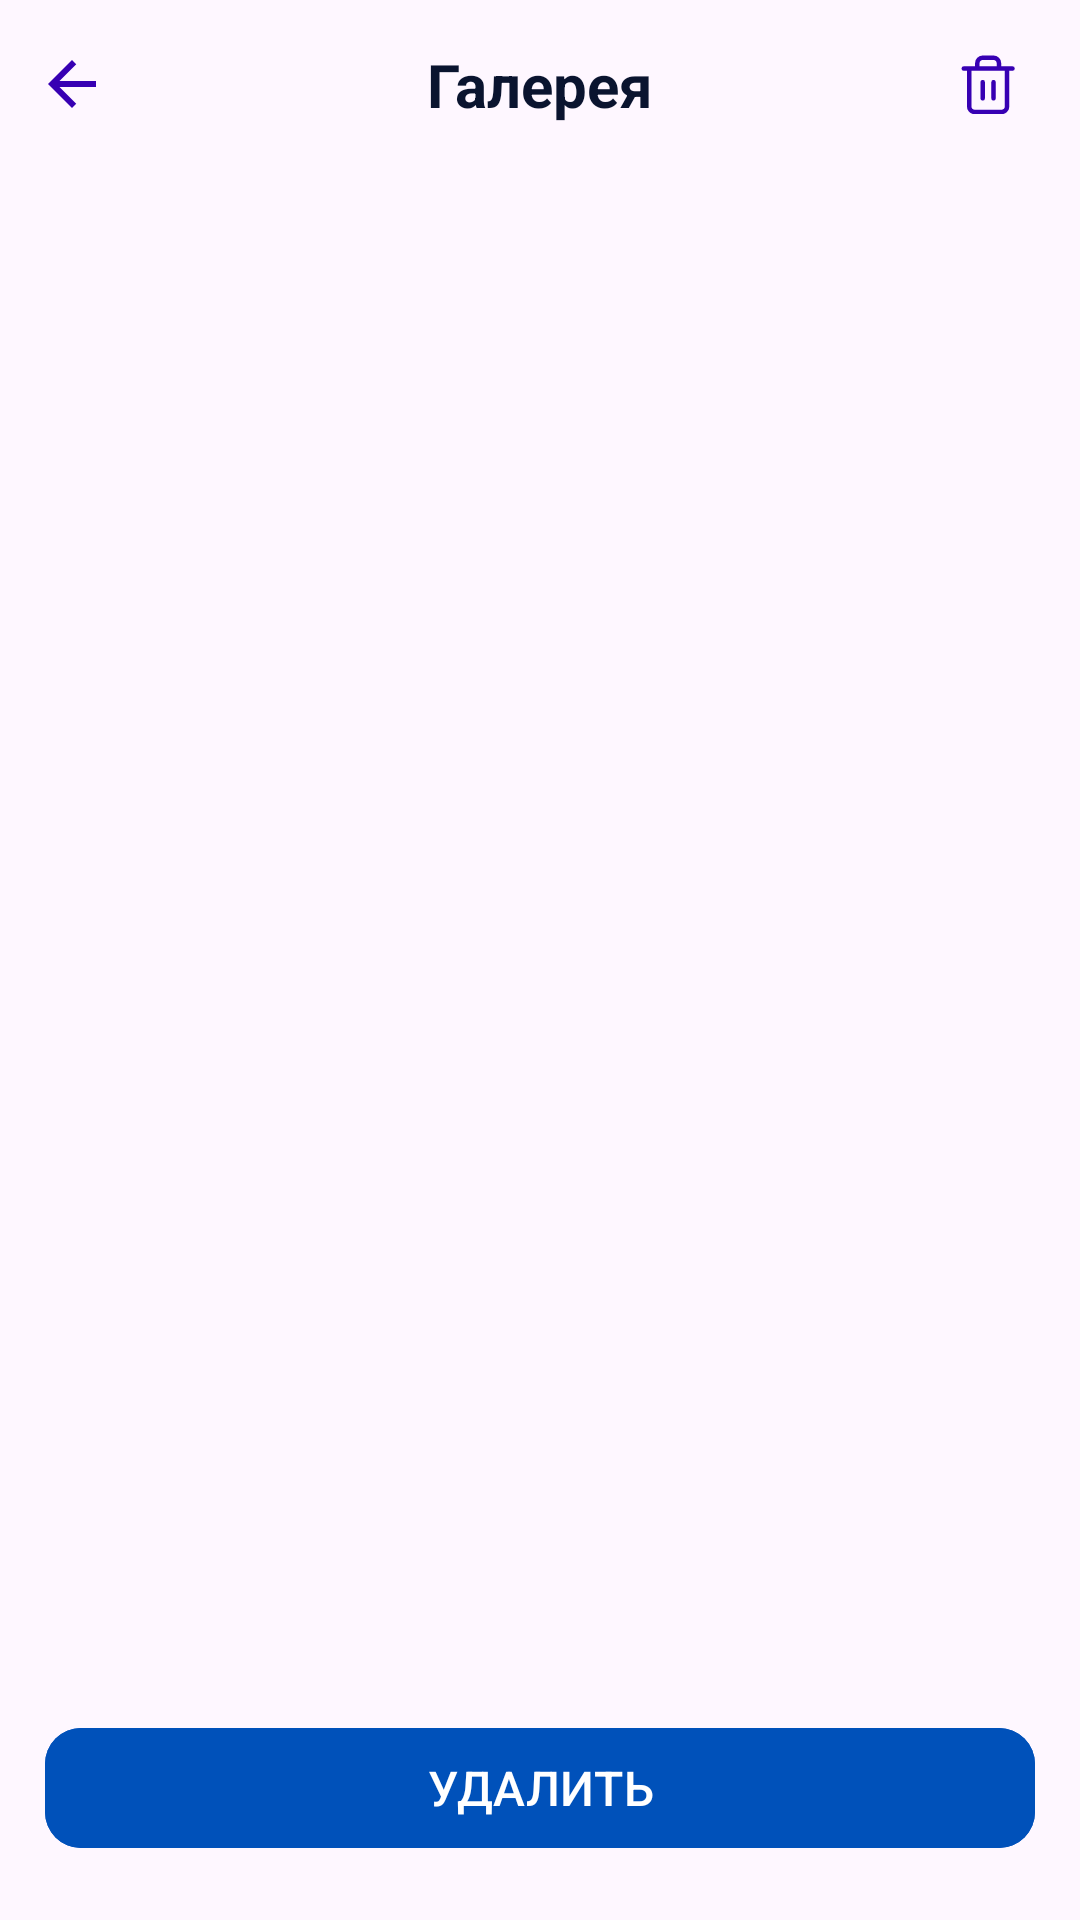

Icon click points for this 1080px×1920px phone screenshot, format [x,y]:
arrow back: [72,84]
delete: [988,84]
